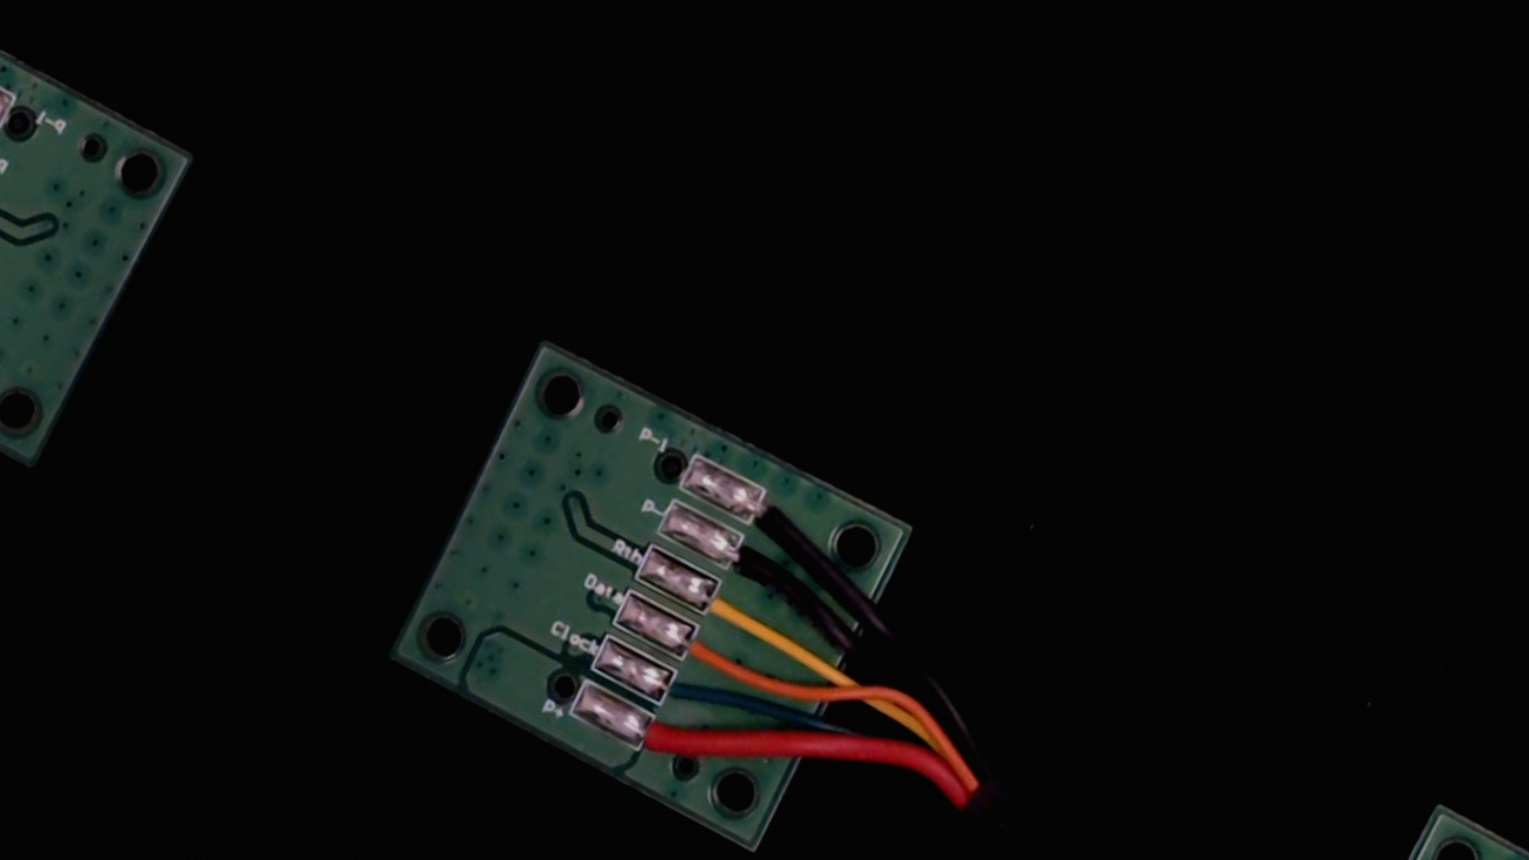Black: (706, 526, 810, 608)
Black1: (729, 479, 824, 557)
Green: (637, 654, 737, 735)
Orange: (662, 612, 762, 692)
Red: (619, 705, 718, 785)
Yellow: (683, 566, 787, 650)
